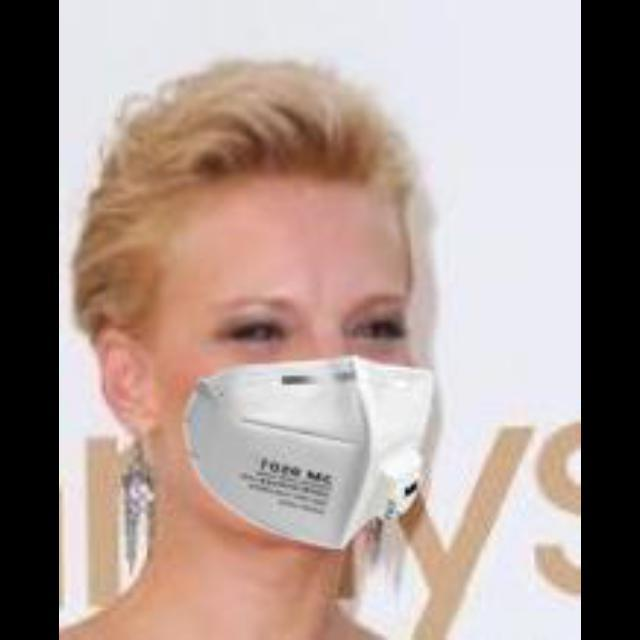suspicion: (101, 47, 426, 575)
